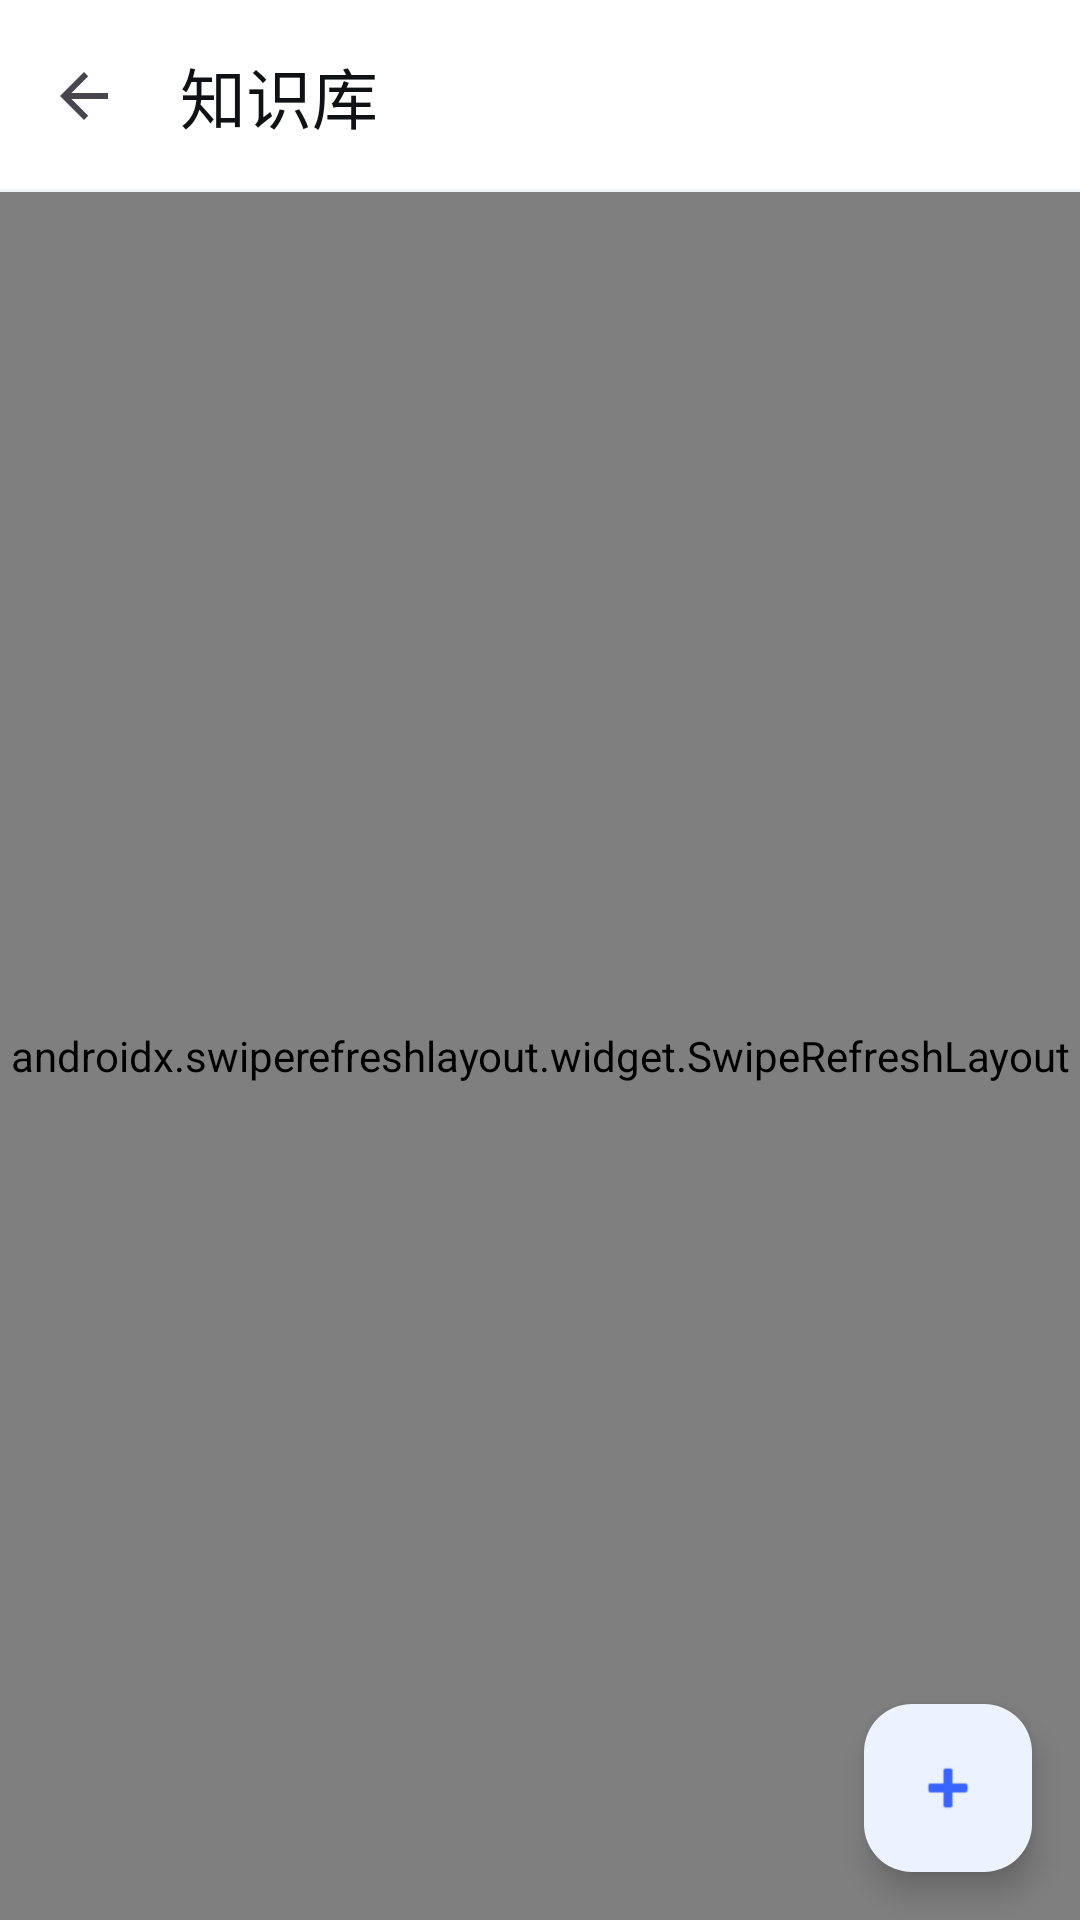

Where to tap for icons on this 1080w x 1920h app screen, as (x,y):
上传文档: (948,1788)
